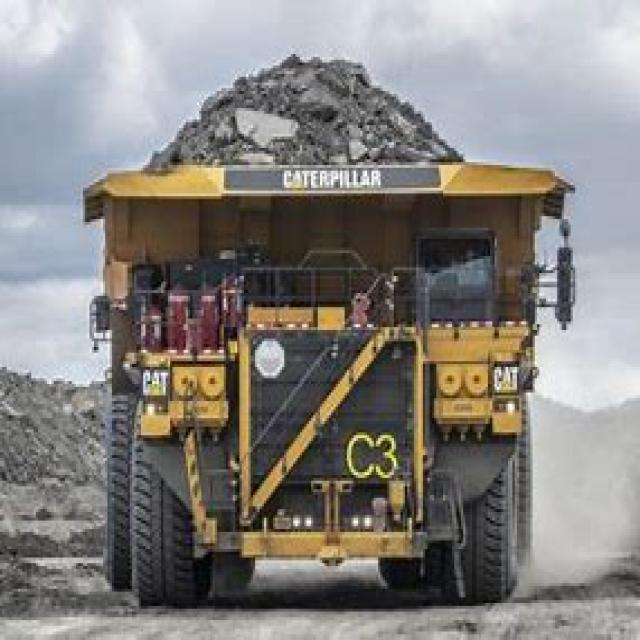dump_truck: (78, 48, 555, 618)
